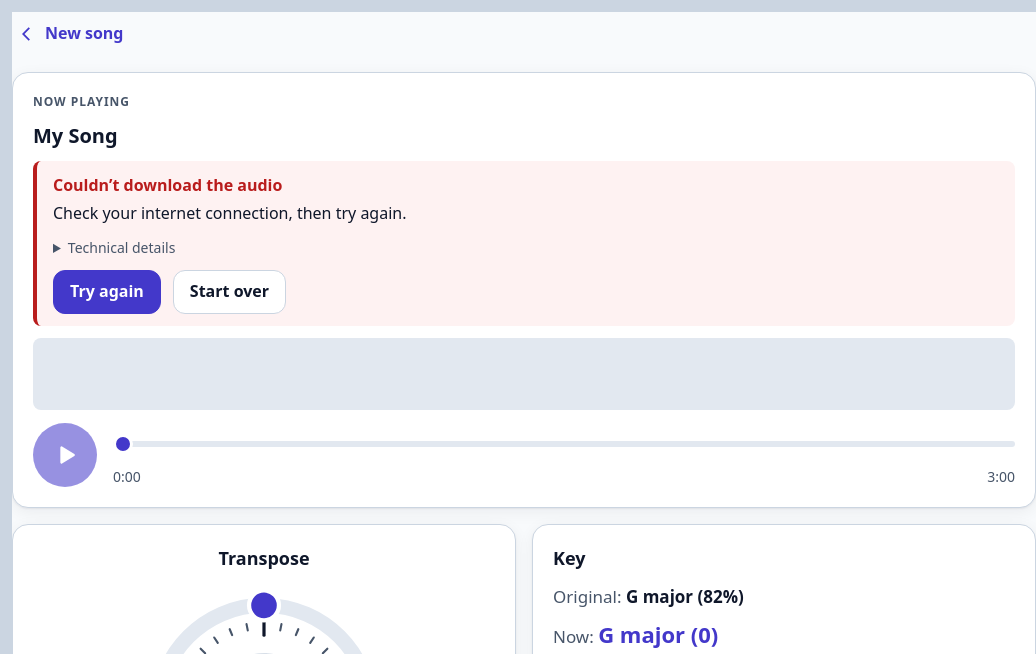
Test case: TrackWorkspace › an engine failure is explained, and Try again reloads the track in a new engine
Expected: the text "Couldn’t download the audio" is shown, [53,174,282,196]
Click the button "Try again". click: (107, 292)
box: [53,270,161,314]
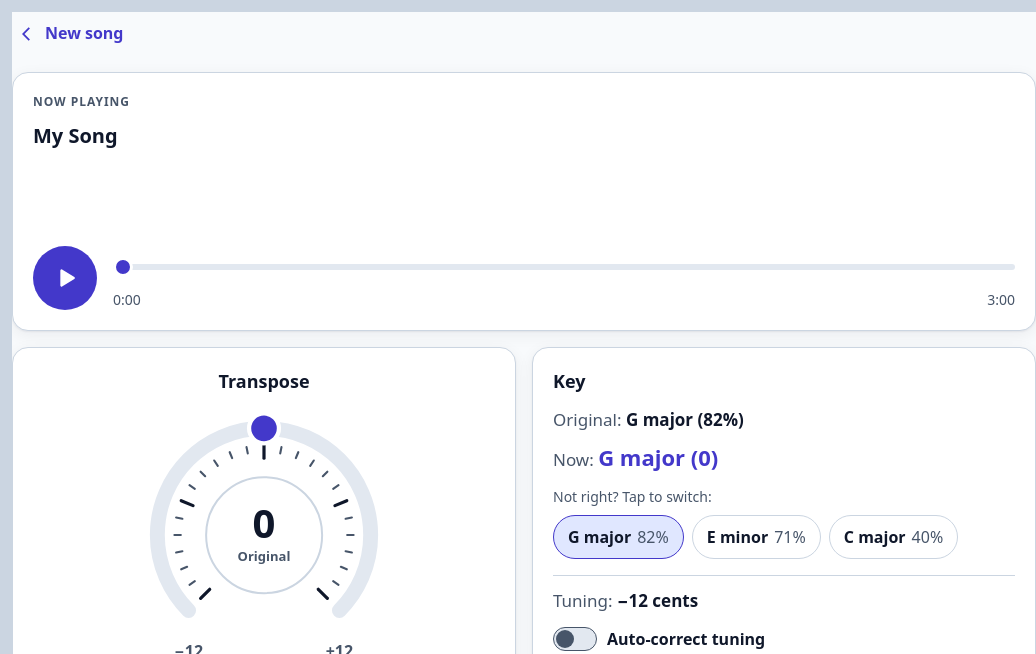
Result: the button named "Play" is enabled at [33,246,97,310]
Result: the message "Couldn’t download the audio Check your internet connection, then try again." is gone
